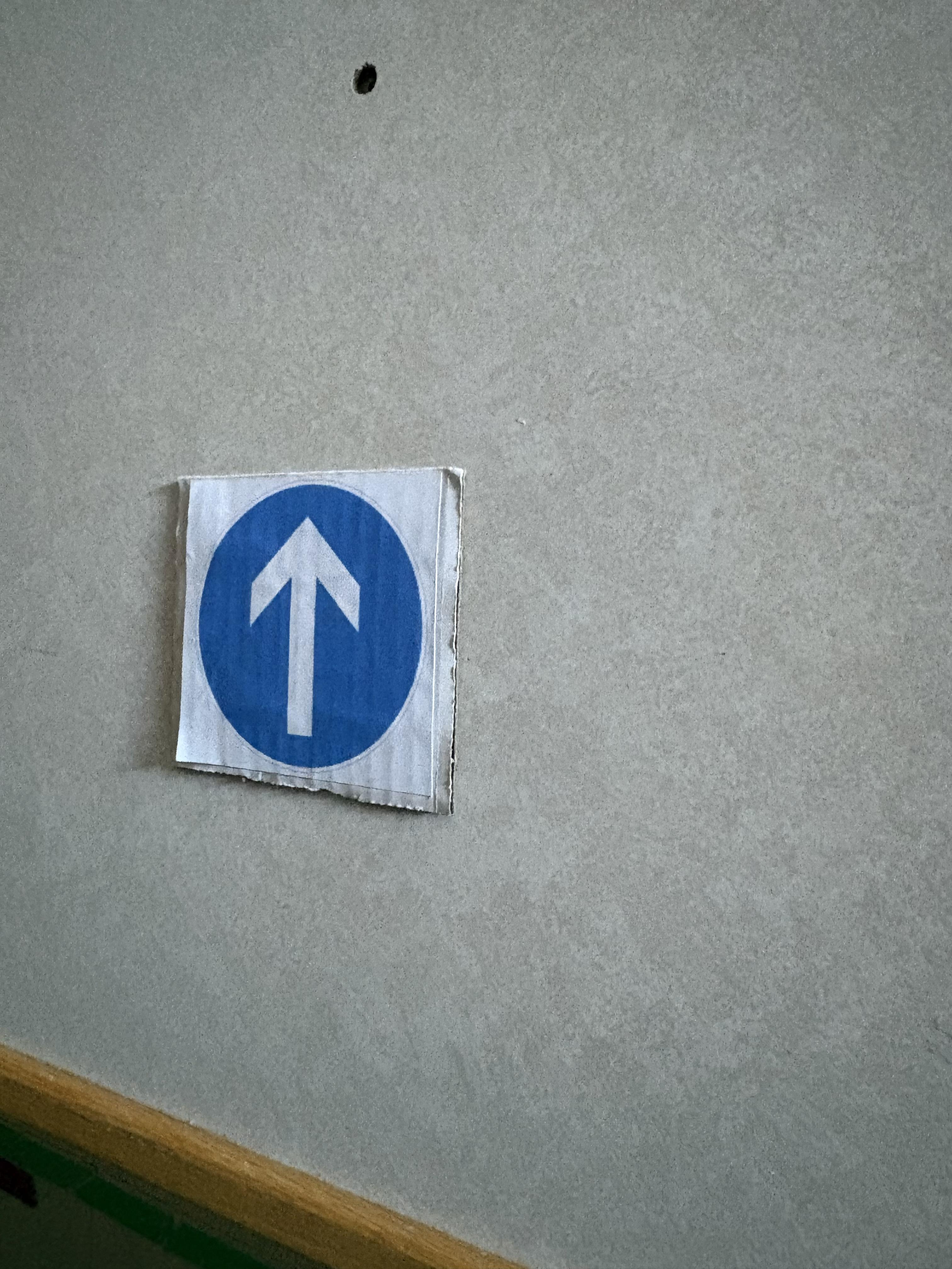Proceed Forward: (169, 466, 460, 812)
